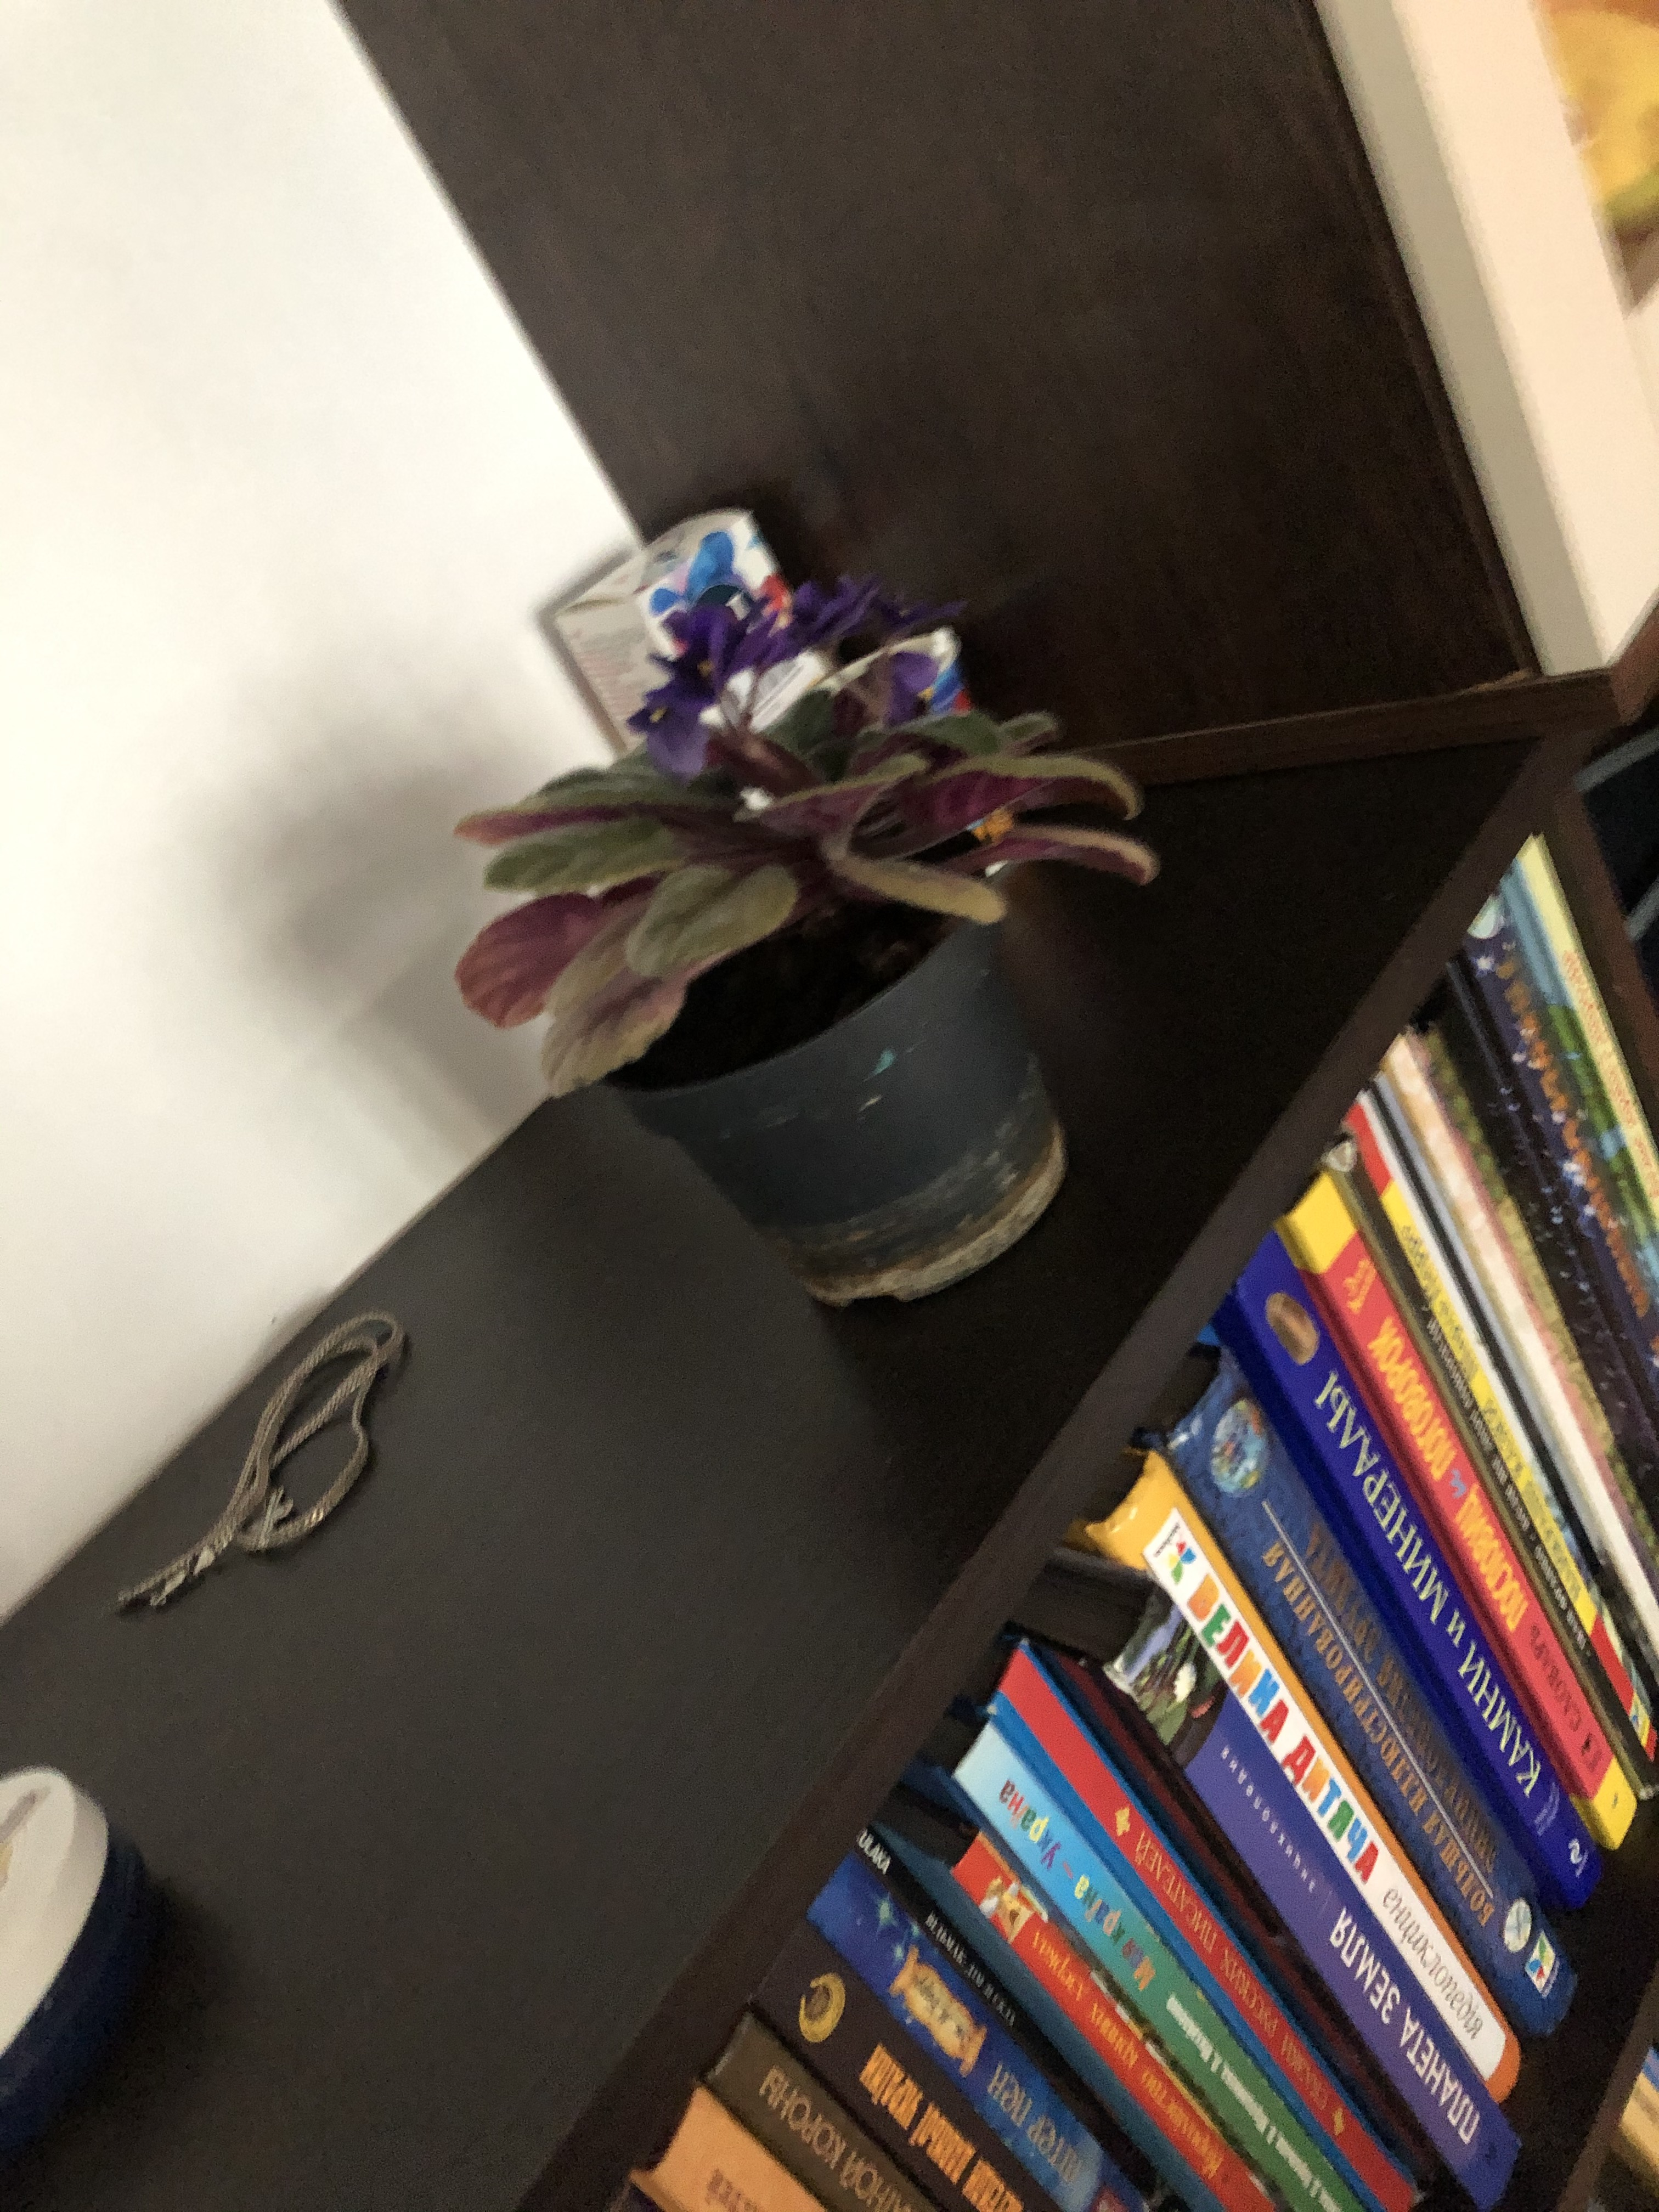ignore: (383, 568, 1180, 1113)
